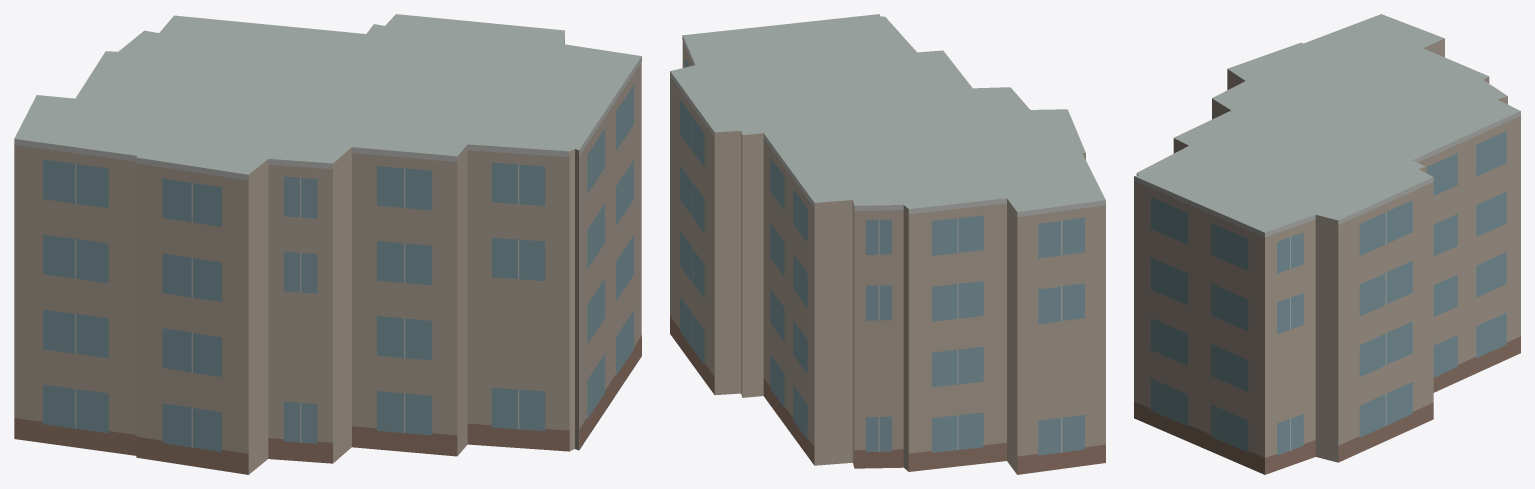
The model's file is survey-upis-32693049.glb.
3 renders of one model, left to right at view 1: azimuth 30°, elevation 25°; view 2: azimuth 150°, elevation 25°; view 3: azimuth 270°, elevation 25°, orthographic. The views are drawn at different scales.
Parts seen in each view (by area): view 1: survey-upis-32693049.tmp; view 2: survey-upis-32693049.tmp; view 3: survey-upis-32693049.tmp.
Boxes of the visible parts, x1,y1,x2,y2 form: survey-upis-32693049.tmp: (14, 14, 641, 474); survey-upis-32693049.tmp: (670, 14, 1105, 474); survey-upis-32693049.tmp: (1134, 14, 1520, 474).
Bounding box in the file's own units: 24.22 × 12.5 × 18.1.
